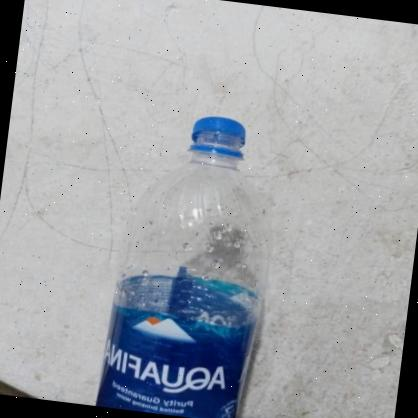bottle: (93, 100, 286, 418)
cap: (182, 114, 253, 164)
label: (91, 298, 259, 418)
